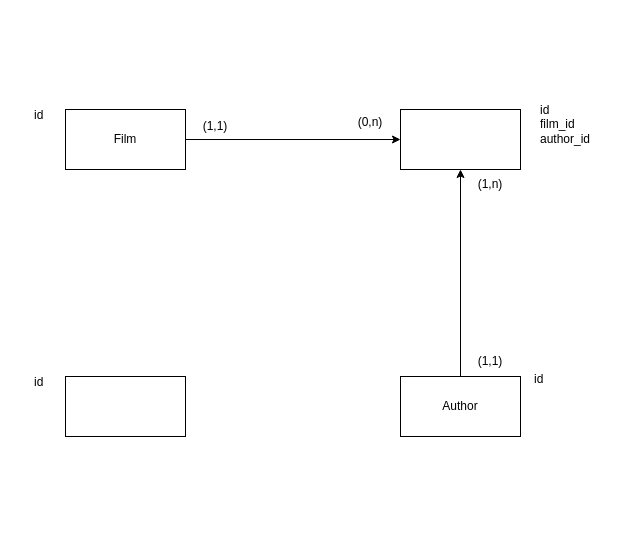
Some shapes in this 622 by 534 pixel diagram are drawn without their labels. Each missing label, with the centre of its shape:
Comment: point 460,139
Log: point 125,406
